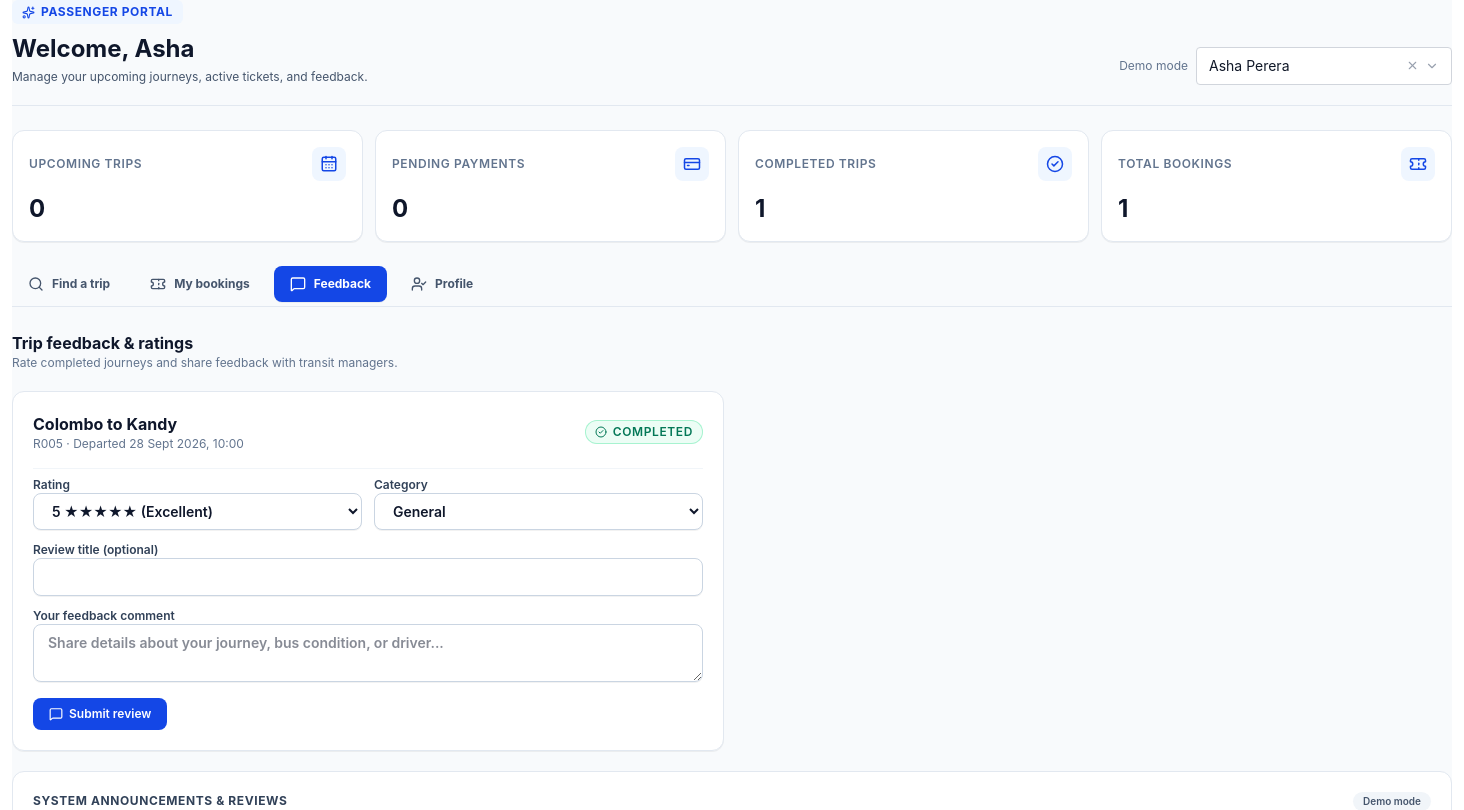
Scenario: Passenger review submission › validates comments and ratings before making the request
Step 1. Click the button "Submit review" → (100, 714), box [33,698,167,730]
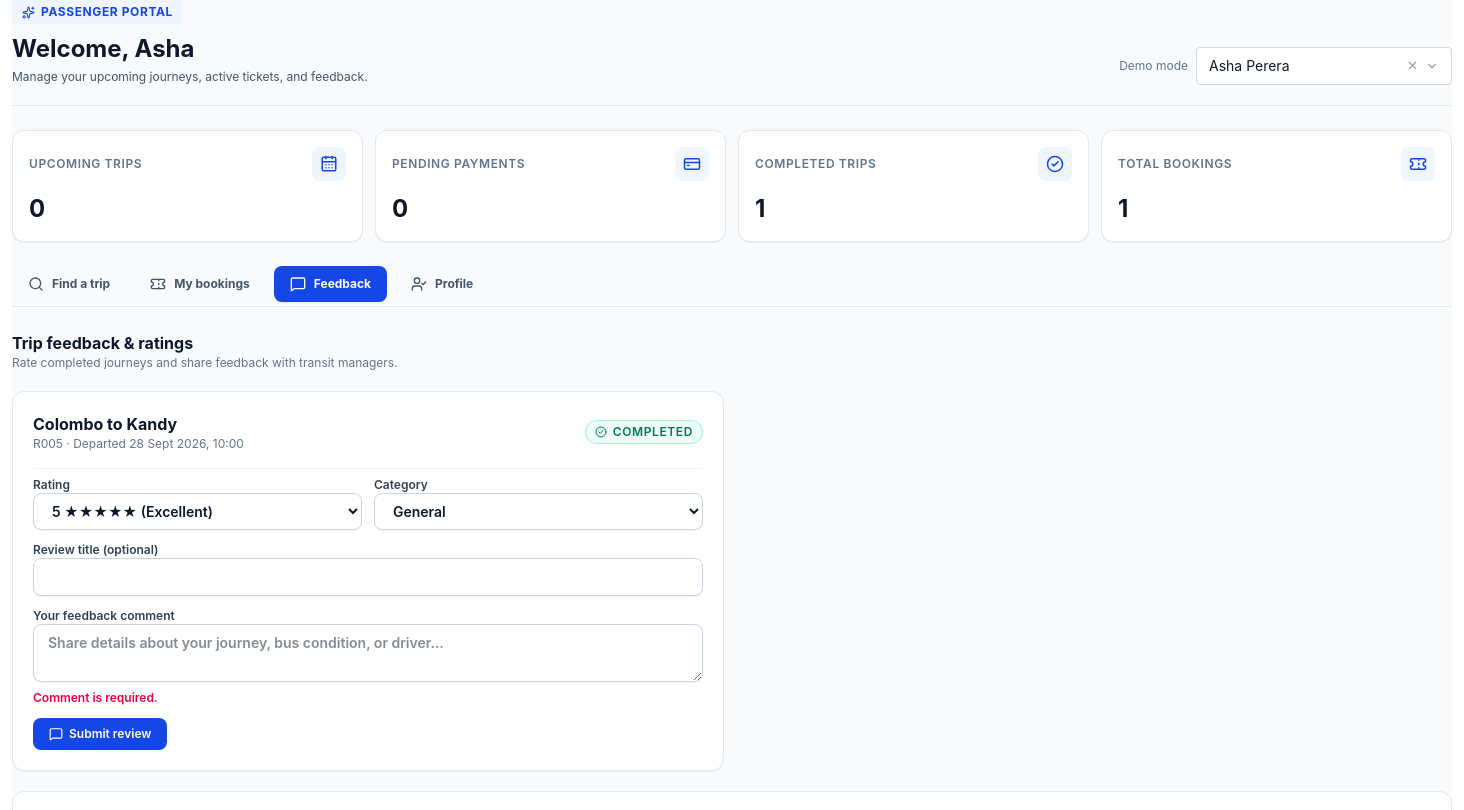
Check: the text "Comment is required." is shown, box [33,690,158,704]
Step 2. Select "6" in the dropdown labelled "Rating" → (198, 511), box [33,492,362,530]
Step 3. Replace the text in the text box with placeholder "Share details about your journey, bus condition, or driver..." with "A trip review" → (368, 652), box [33,624,703,682]
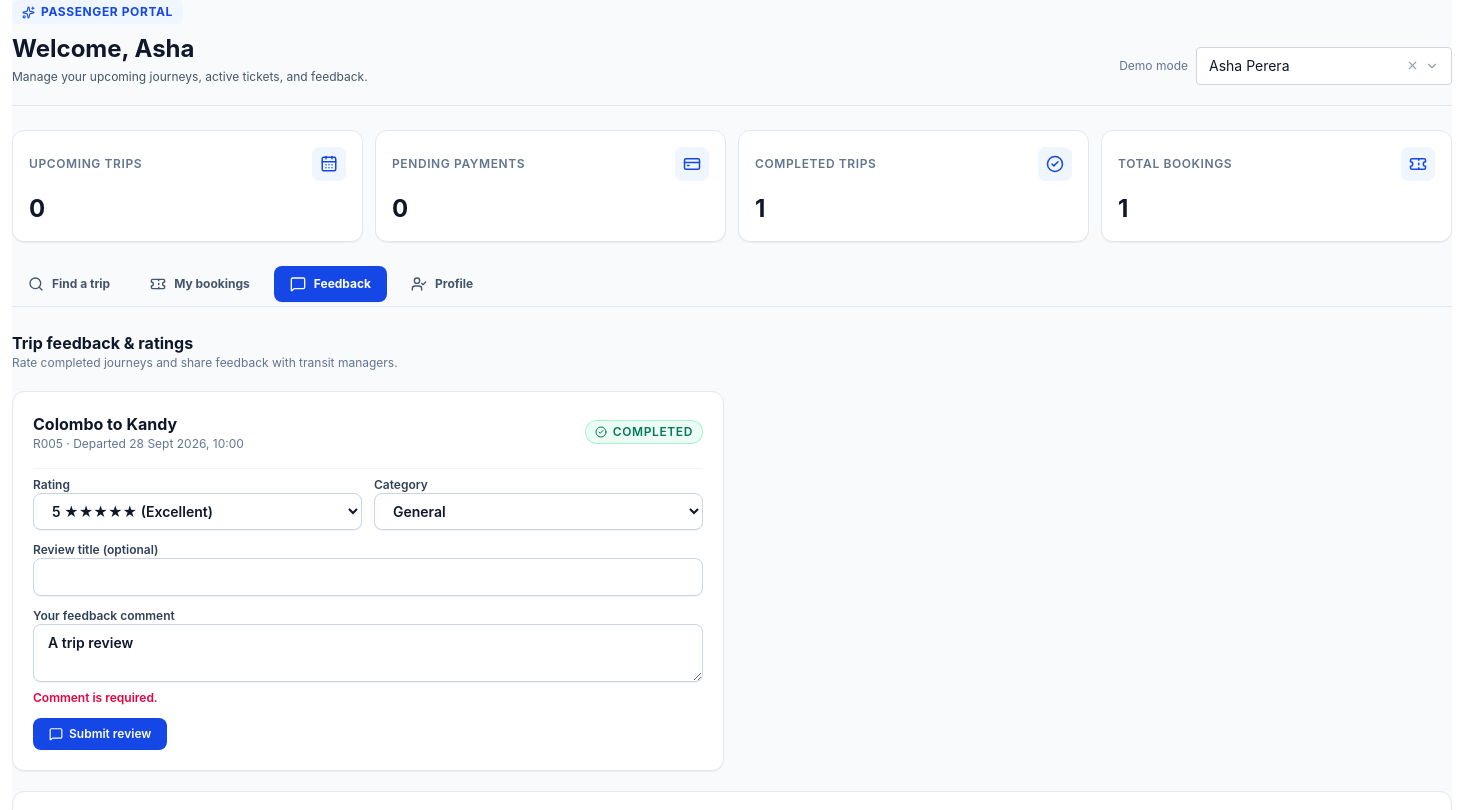
Step 4. Click the button "Submit review" → (100, 734), box [33,718,167,750]
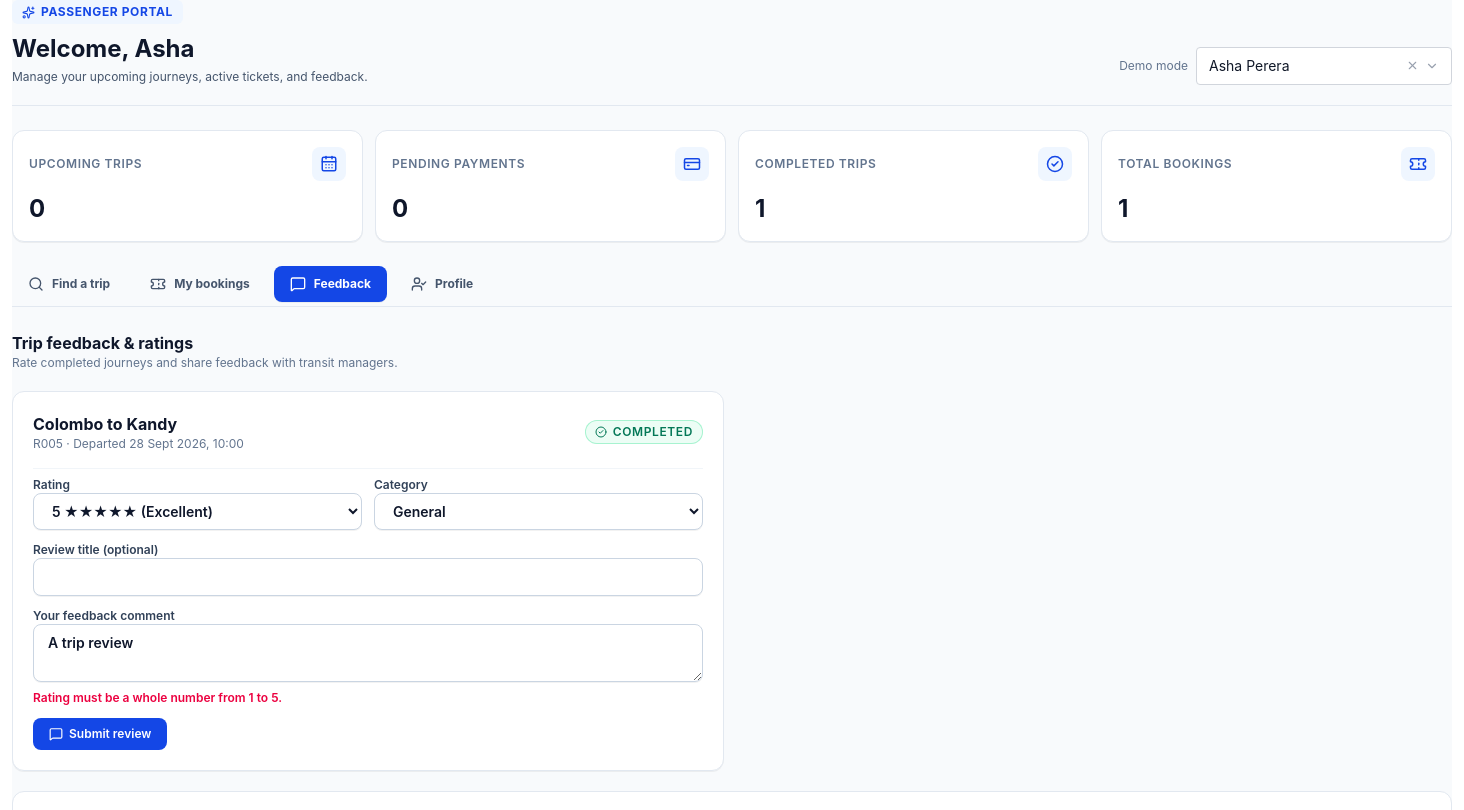
Check: the text "Rating must be a whole number from 1 to 5." is shown, box [33,690,282,704]
